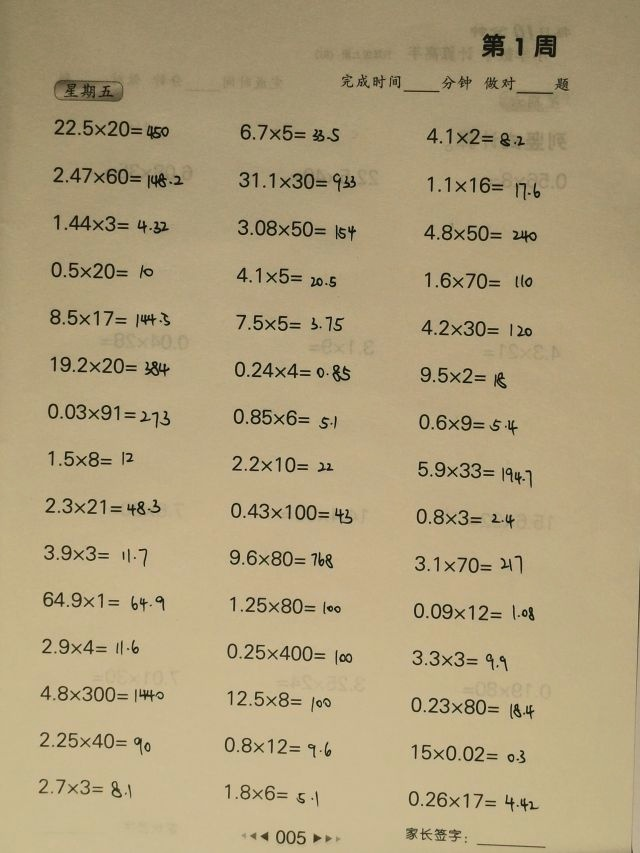equation: (404, 785, 544, 817), (49, 112, 171, 146), (49, 163, 188, 190), (43, 400, 175, 428), (414, 457, 537, 485), (406, 694, 538, 720), (423, 172, 545, 200), (226, 499, 356, 525), (234, 215, 359, 242), (36, 727, 156, 755), (222, 640, 356, 665), (235, 167, 359, 194), (37, 682, 169, 707), (229, 358, 354, 384), (409, 599, 538, 624), (38, 589, 169, 613), (412, 551, 527, 578), (45, 305, 174, 329), (406, 741, 529, 766), (49, 211, 172, 236), (419, 220, 541, 245), (47, 353, 173, 377), (41, 494, 164, 518), (223, 687, 336, 713), (220, 734, 335, 759), (233, 310, 348, 335), (226, 593, 345, 617), (231, 263, 340, 289), (417, 316, 535, 340), (39, 542, 151, 567), (228, 405, 340, 430), (421, 269, 537, 293), (46, 258, 157, 283), (412, 504, 518, 530), (236, 119, 342, 145), (407, 646, 512, 672), (220, 780, 323, 806), (414, 411, 521, 436), (225, 546, 336, 570), (37, 634, 143, 659), (422, 124, 528, 149), (34, 775, 135, 801), (228, 452, 337, 476), (416, 363, 511, 389), (46, 447, 138, 471)
